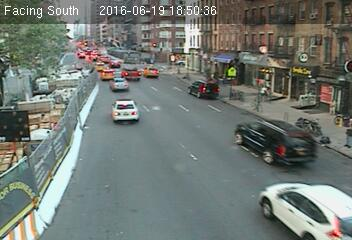neg: (276, 97, 293, 120), (205, 80, 216, 94)
pos: (257, 83, 270, 99)
